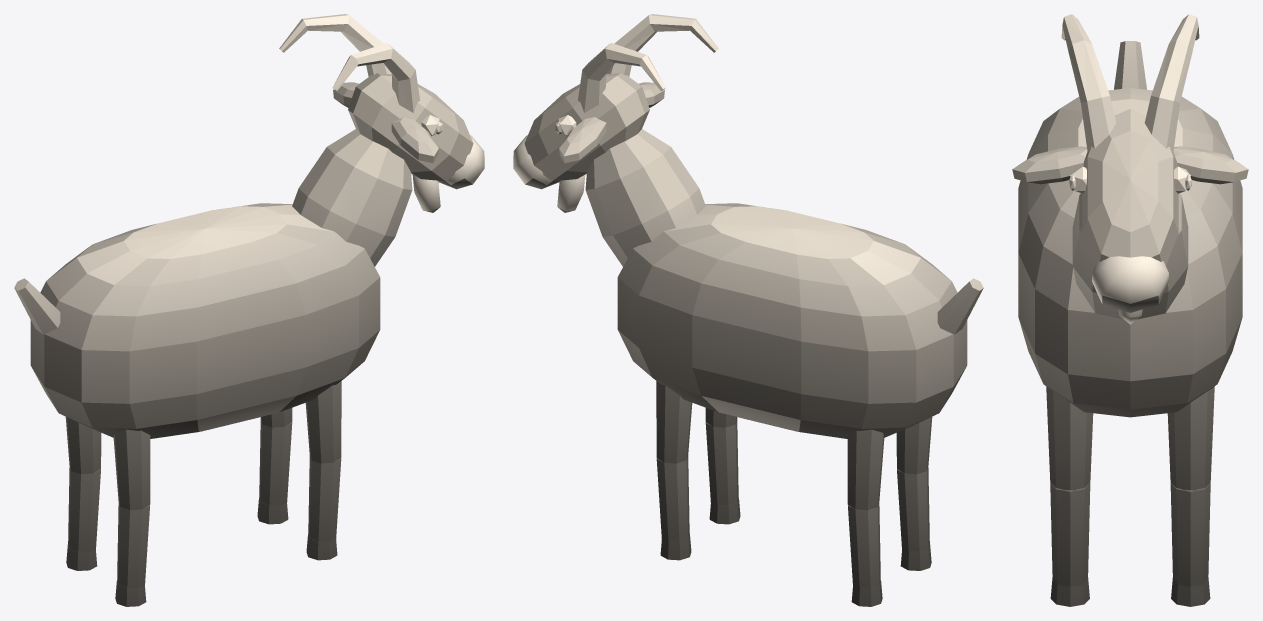
The model's file is SM_VK_Animal_Goat.fbx.
3 renders of one model, left to right at view 1: azimuth 30°, elevation 25°; view 2: azimuth 150°, elevation 25°; view 3: azimuth 270°, elevation 25°, orthographic. The views are drawn at different scales.
Visible parts, largest first — view 1: SM_VK_Animal_Goat.001; view 2: SM_VK_Animal_Goat.001; view 3: SM_VK_Animal_Goat.001.
Boxes of the visible parts, box(x1,y1,x2,y2) form: SM_VK_Animal_Goat.001: box(14, 14, 484, 606); SM_VK_Animal_Goat.001: box(513, 14, 983, 606); SM_VK_Animal_Goat.001: box(1012, 14, 1248, 606).
Bounding box in the file's own units: 1.31 × 1.33 × 0.4715.
